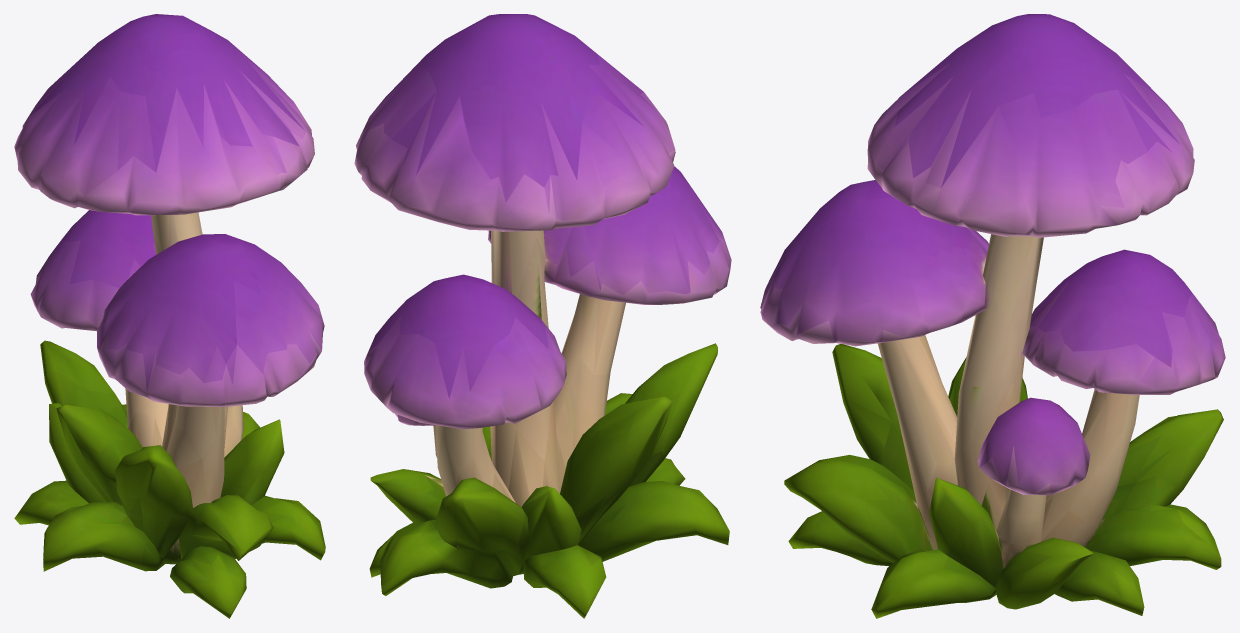
File: shroom_trio.glb
The picture shows the model from 3 angles, left to right: view 1: azimuth 30°, elevation 25°; view 2: azimuth 150°, elevation 25°; view 3: azimuth 270°, elevation 25°; orthographic projection. The views are drawn at different scales.
Parts seen in each view (by area): view 1: tripo_node_9b7cfc15-bb2b-4e35-a10b-a96a65b3b9af; view 2: tripo_node_9b7cfc15-bb2b-4e35-a10b-a96a65b3b9af; view 3: tripo_node_9b7cfc15-bb2b-4e35-a10b-a96a65b3b9af.
Boxes of the visible parts, x1,y1,x2,y2 form: tripo_node_9b7cfc15-bb2b-4e35-a10b-a96a65b3b9af: [14, 14, 325, 618]; tripo_node_9b7cfc15-bb2b-4e35-a10b-a96a65b3b9af: [354, 14, 731, 618]; tripo_node_9b7cfc15-bb2b-4e35-a10b-a96a65b3b9af: [760, 14, 1225, 618].
Bounding box in the file's own units: 0.6006 × 1 × 0.7603.
Materials: 1 (1 with a texture image).
